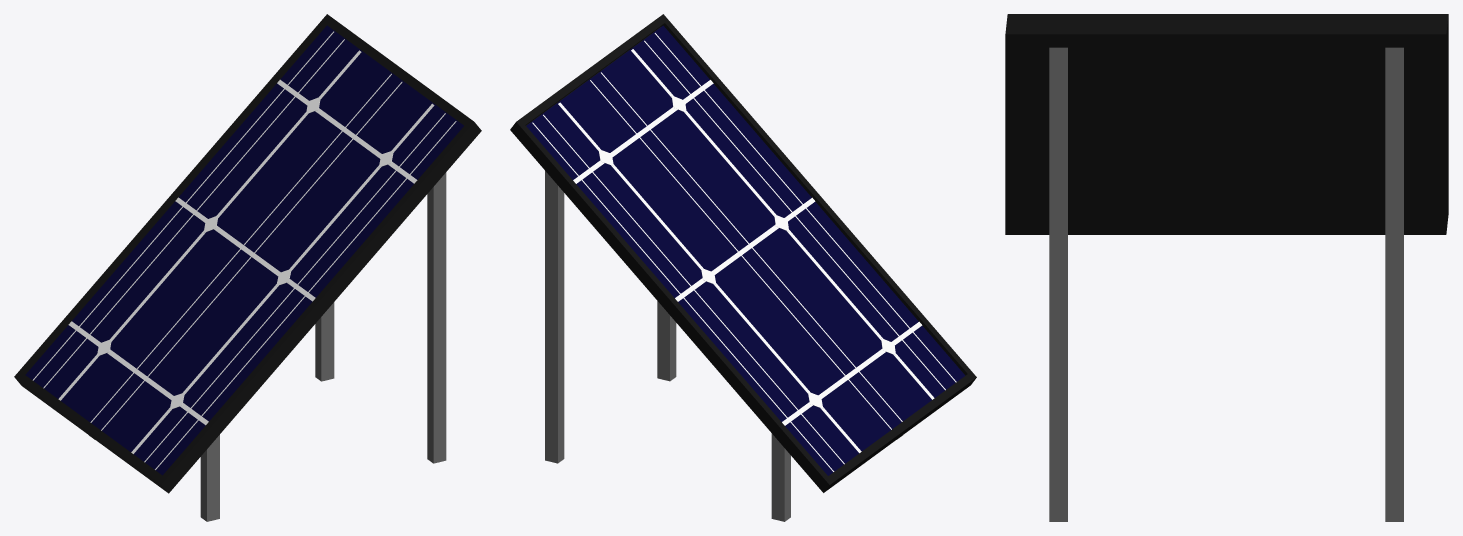
The model's file is Solar Panel.FBX.
The picture shows the model from 3 angles, left to right: view 1: azimuth 30°, elevation 25°; view 2: azimuth 150°, elevation 25°; view 3: azimuth 270°, elevation 25°; orthographic projection. The views are drawn at different scales.
Parts seen in each view (by area): view 1: Box001; view 2: Box001; view 3: Box001.
Boxes of the visible parts, x1,y1,x2,y2 form: Box001: (14, 14, 481, 521); Box001: (510, 14, 976, 521); Box001: (1005, 14, 1448, 521).
Size of the model in its own units: 18.55 by 19.31 by 14.84.
